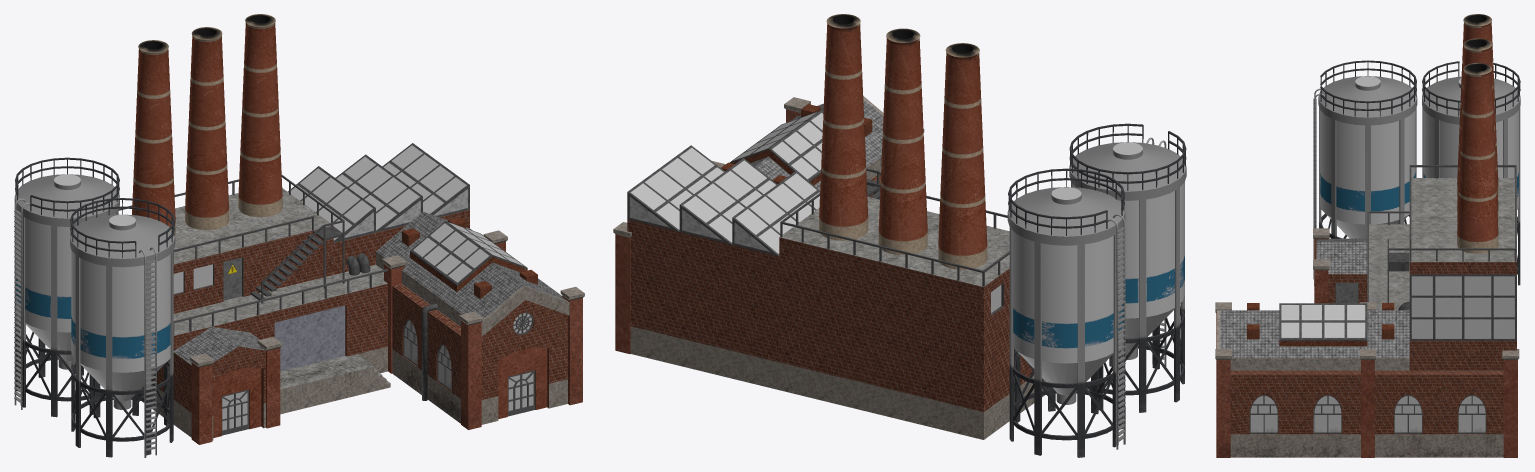
The model's file is factory.glb.
3 renders of one model, left to right at view 1: azimuth 30°, elevation 25°; view 2: azimuth 150°, elevation 25°; view 3: azimuth 270°, elevation 25°, orthographic. The views are drawn at different scales.
Parts seen in each view (by area): view 1: Object_2, Object_3; view 2: Object_2, Object_3; view 3: Object_2, Object_3.
Boxes of the visible parts, left/top/right/bottom form: Object_2: left=118, top=14, right=584, bottom=444; Object_3: left=14, top=157, right=175, bottom=457; Object_2: left=613, top=14, right=1046, bottom=439; Object_3: left=1007, top=123, right=1186, bottom=457; Object_2: left=1215, top=14, right=1519, bottom=457; Object_3: left=1313, top=60, right=1520, bottom=285.
Size of the model in its own units: 27.17 by 19.61 by 17.75.
Materials: 2 (2 with a texture image).
